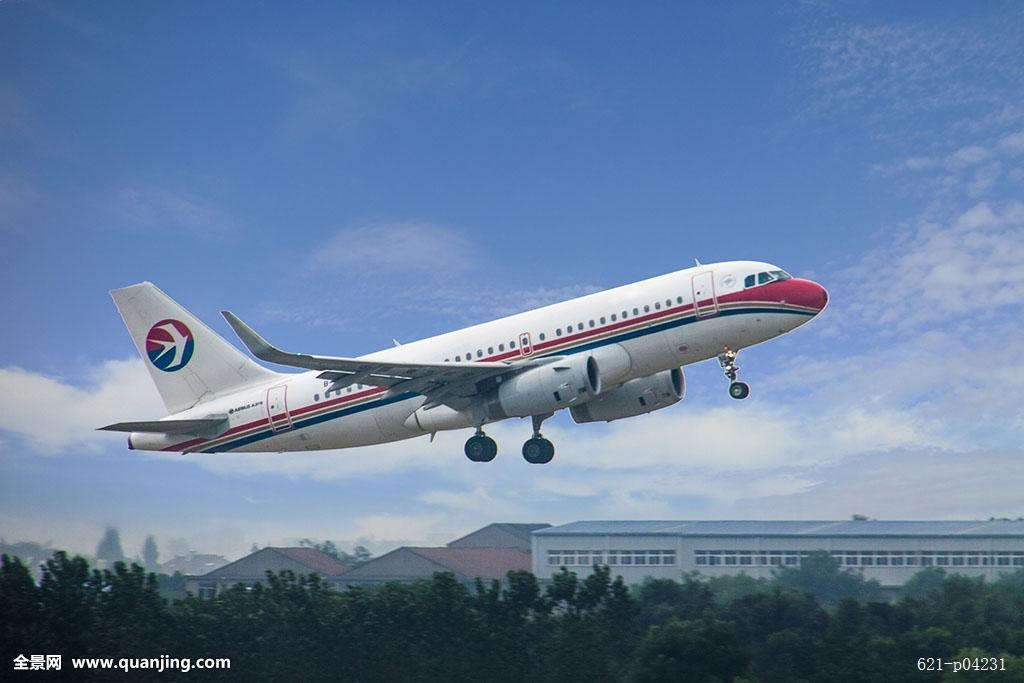airplane: (105, 254, 832, 476)
